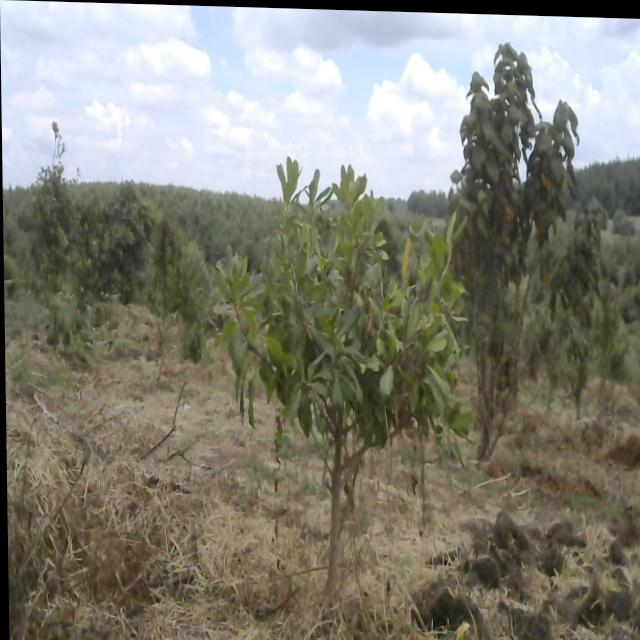other: (208, 150, 474, 598), (451, 35, 609, 466)
